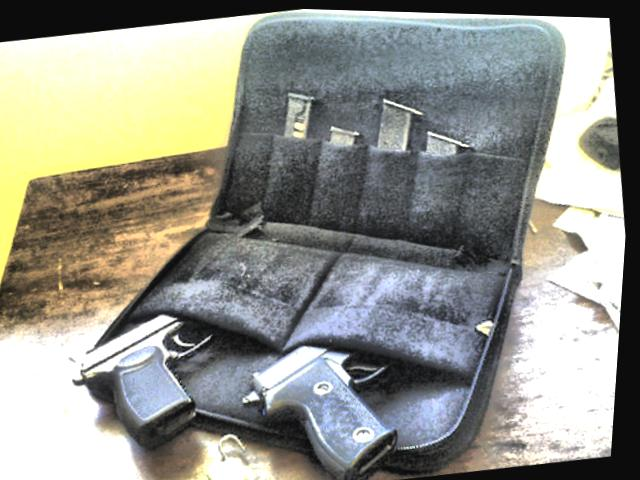pistol: (231, 307, 425, 480), (65, 282, 239, 462)
